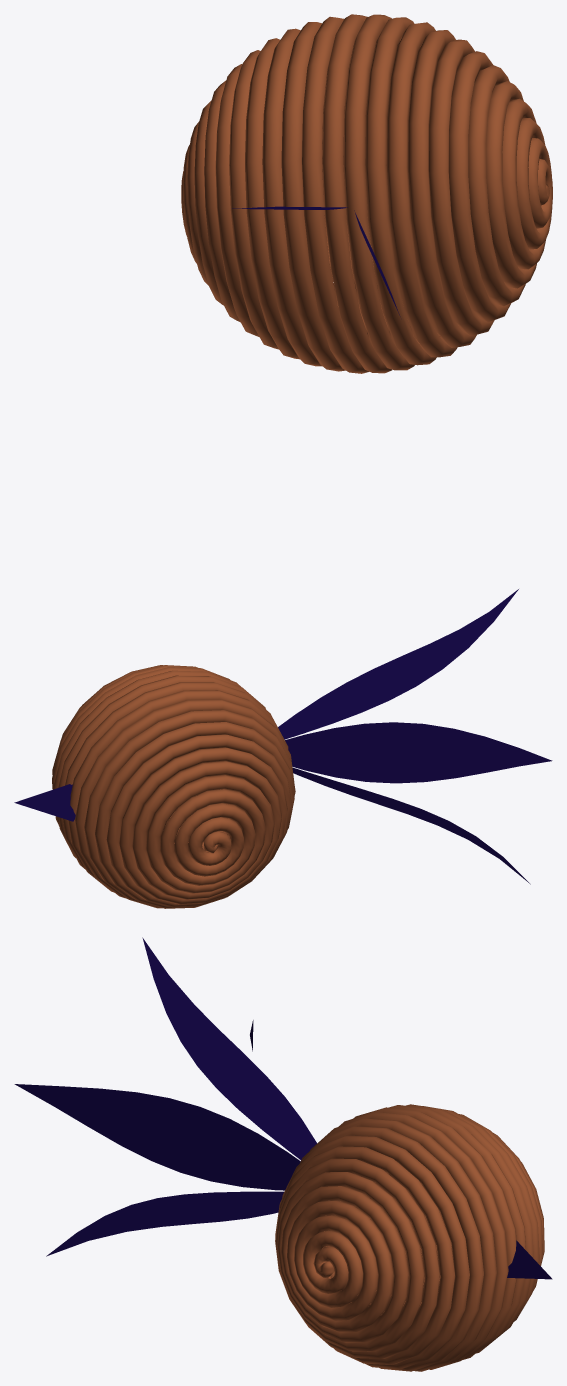
3 renders of one model, top to bottom at view 1: azimuth 30°, elevation 25°; view 2: azimuth 150°, elevation 25°; view 3: azimuth 270°, elevation 25°, orthographic. The views are drawn at different scales.
Visible parts, largest first — view 1: brush_Icing_g1_b0; view 2: brush_Icing_g1_b0, brush_Petal_g1_b0, brush_Spikes_g1_b0; view 3: brush_Icing_g1_b0, brush_Petal_g1_b0, brush_Spikes_g1_b0.
Boxes of the visible parts, <box> form: brush_Icing_g1_b0: <box>181,14,552,373</box>; brush_Icing_g1_b0: <box>52,665,295,908</box>; brush_Petal_g1_b0: <box>278,589,552,884</box>; brush_Spikes_g1_b0: <box>14,784,75,821</box>; brush_Icing_g1_b0: <box>275,1104,544,1371</box>; brush_Petal_g1_b0: <box>14,937,316,1256</box>; brush_Spikes_g1_b0: <box>507,1240,552,1279</box>.
Size of the model in its own units: 4.29 by 2.72 by 4.39.
